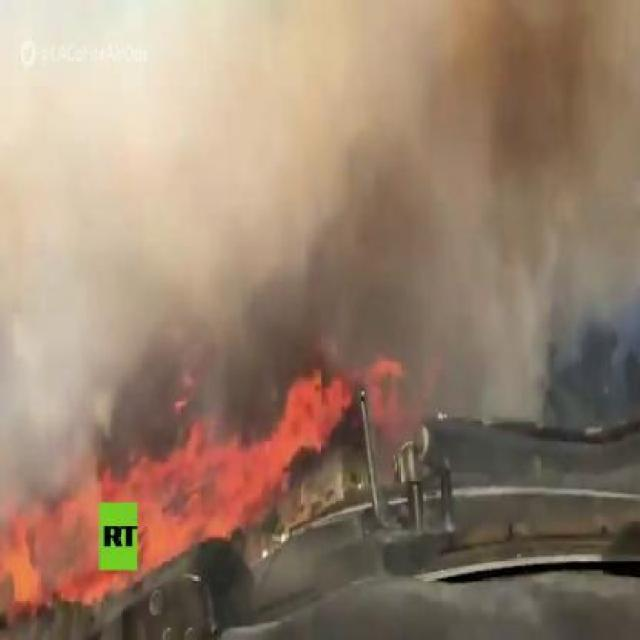Fire: (2, 356, 395, 613)
